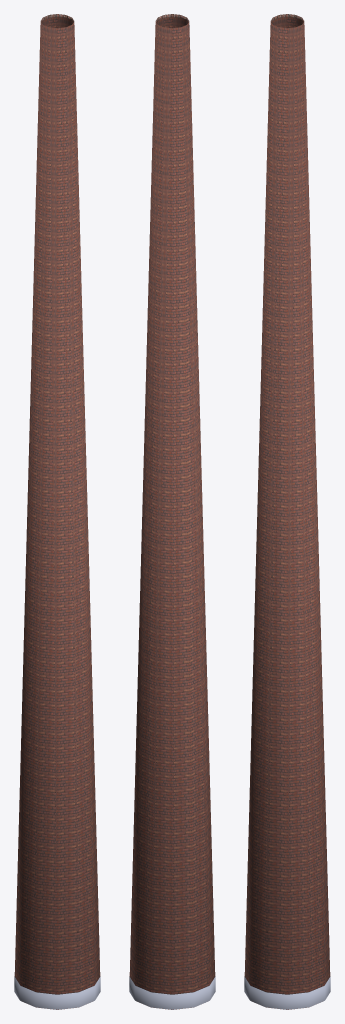
File: sarvis.obj
The picture shows the model from 3 angles, left to right: view 1: azimuth 30°, elevation 25°; view 2: azimuth 210°, elevation 25°; view 3: azimuth 330°, elevation 25°; orthographic projection.
Parts seen in each view (by area): view 1: Cylinder; view 2: Cylinder; view 3: Cylinder.
Part boxes in pixels (<box>): Cylinder: <box>14,14,100,1009</box>; Cylinder: <box>129,14,215,1009</box>; Cylinder: <box>244,14,330,1009</box>.
Size of the model in its own units: 5.12 by 63.4 by 5.12.
Materials: 2 (1 with a texture image).
